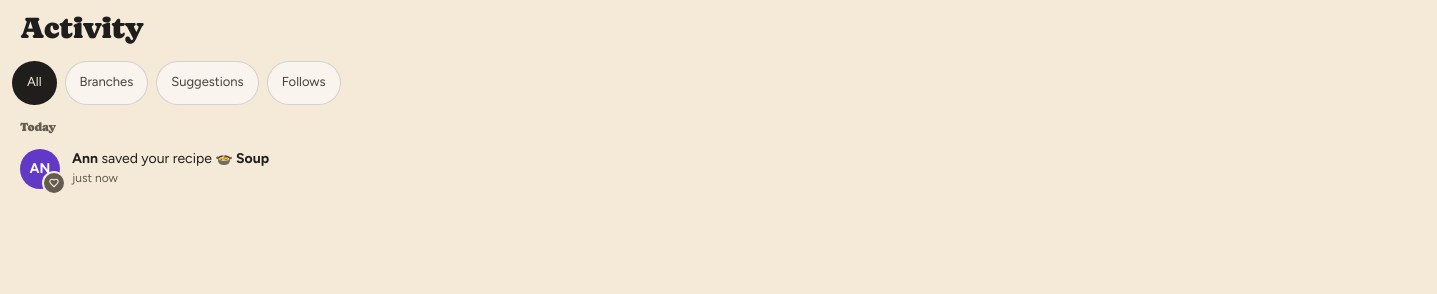
ActivityPage › shows Nothing here yet under a chip with no rows
Click the button "Follows" at (304,82), box [267, 60, 340, 104]
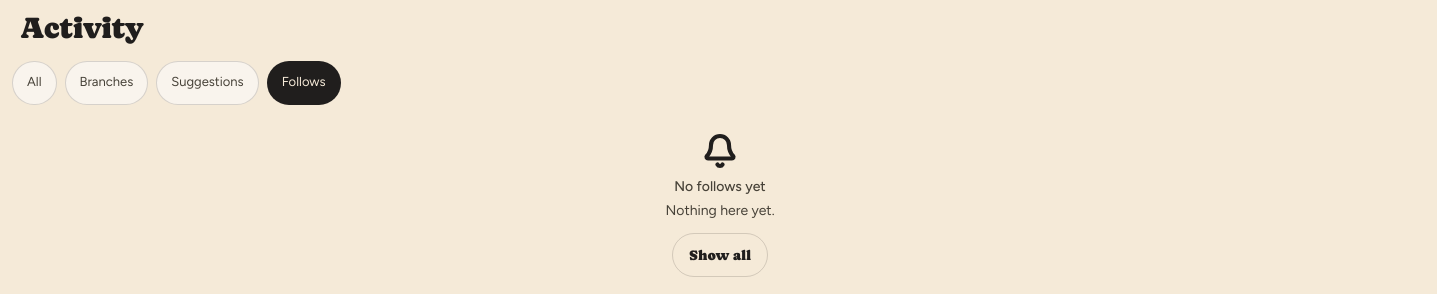
Check: the text "No follows yet" is shown, box [674, 176, 766, 196]
Check: the text "Nothing here yet." is shown, box [665, 200, 774, 220]
Check: the list item "AN Ann saved your recipe 🍲 Soup just now" is gone
Click the button "Show all" at (720,254), box [672, 232, 768, 276]
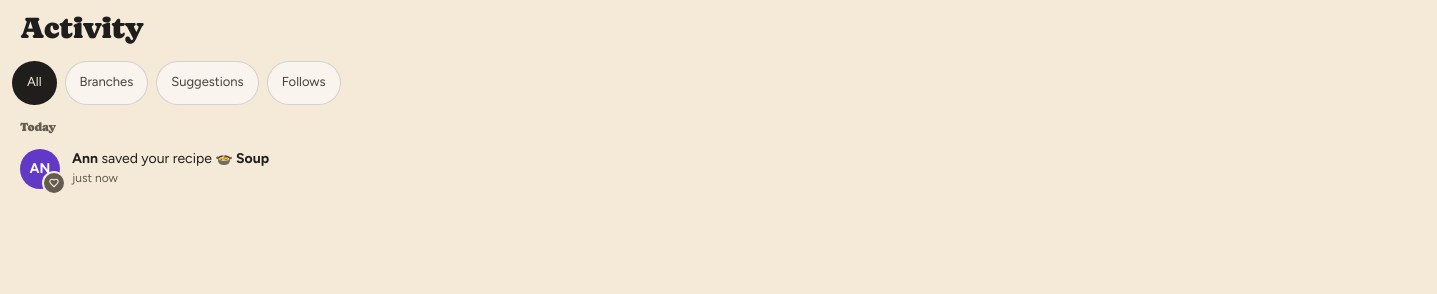
Check: the number of list items is 1, box [20, 138, 1420, 198]
